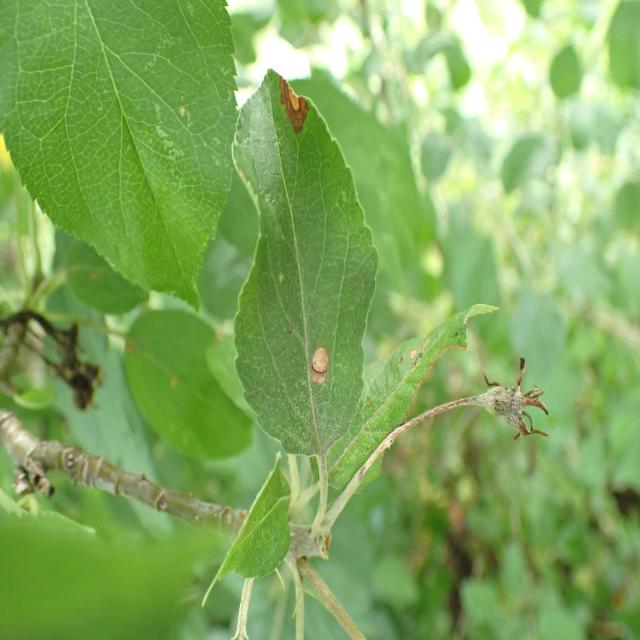Black Rot: (272, 38, 316, 153), (304, 308, 333, 404)
